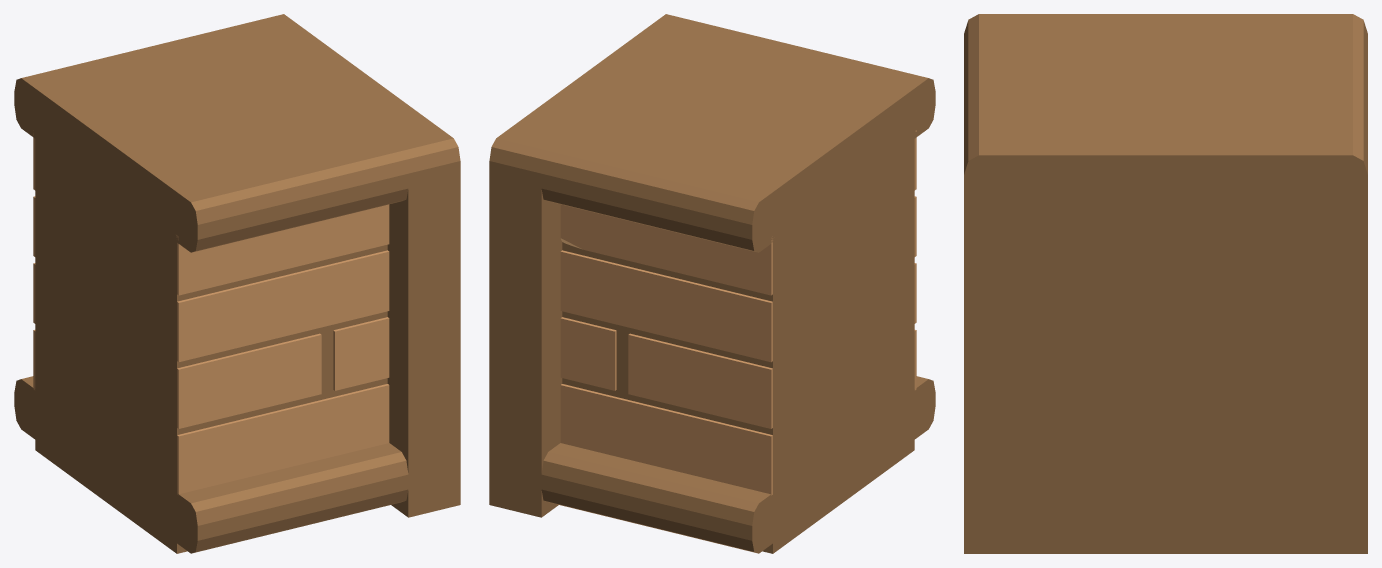
The model's file is Counter_End.fbx.
3 views of the same model, side by side, from view 1: azimuth 30°, elevation 25°; view 2: azimuth 150°, elevation 25°; view 3: azimuth 270°, elevation 25° (orthographic). The views are drawn at different scales.
Visible parts, largest first — view 1: Environment_Counter_End; view 2: Environment_Counter_End; view 3: Environment_Counter_End.
Part boxes in pixels (bbox=[...]): Environment_Counter_End: bbox=[14, 14, 460, 553]; Environment_Counter_End: bbox=[489, 14, 935, 553]; Environment_Counter_End: bbox=[964, 14, 1367, 553].
Bounding box in the file's own units: 146 × 192 × 177.
